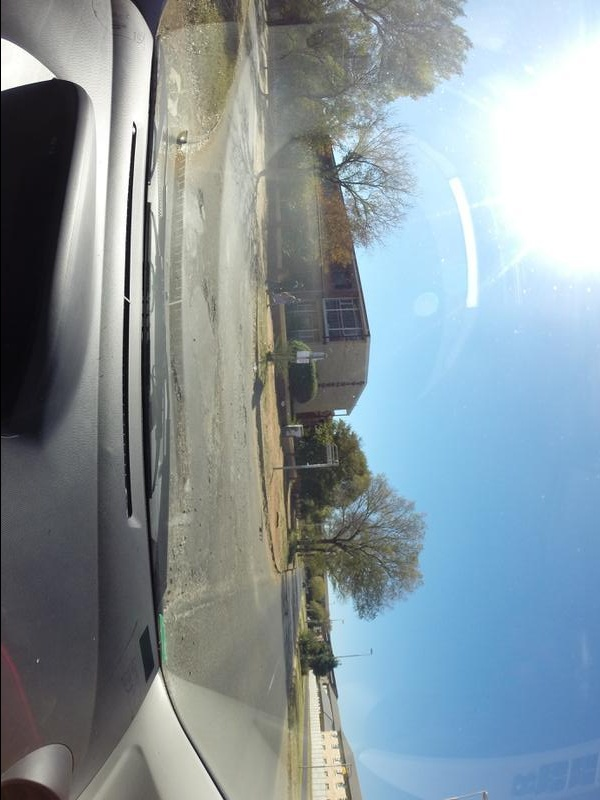pothole: (171, 364, 197, 502), (195, 280, 227, 335), (233, 386, 252, 458), (189, 187, 215, 233), (254, 513, 268, 555)
